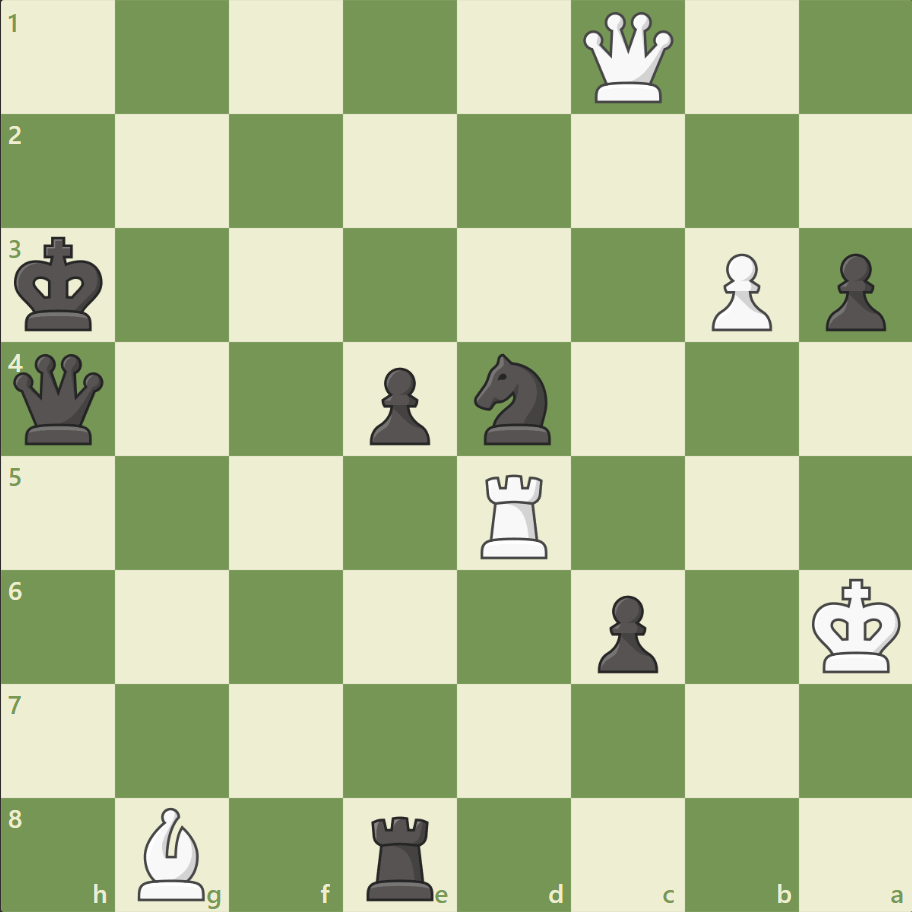B: (131, 801, 215, 904)
K: (806, 571, 906, 679)
P: (701, 246, 776, 337)
Q: (578, 9, 677, 108)
R: (473, 466, 556, 563)
k: (11, 231, 111, 339)
n: (465, 348, 562, 450)
p: (588, 586, 662, 677), (361, 359, 435, 450), (815, 246, 889, 337)
q: (10, 349, 109, 449)
r: (360, 806, 442, 904)
